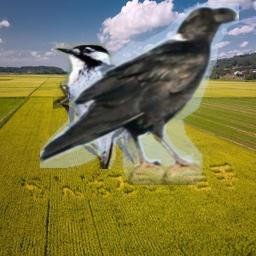Crow: (40, 3, 239, 185)
Woodpecker: (53, 43, 137, 169)
